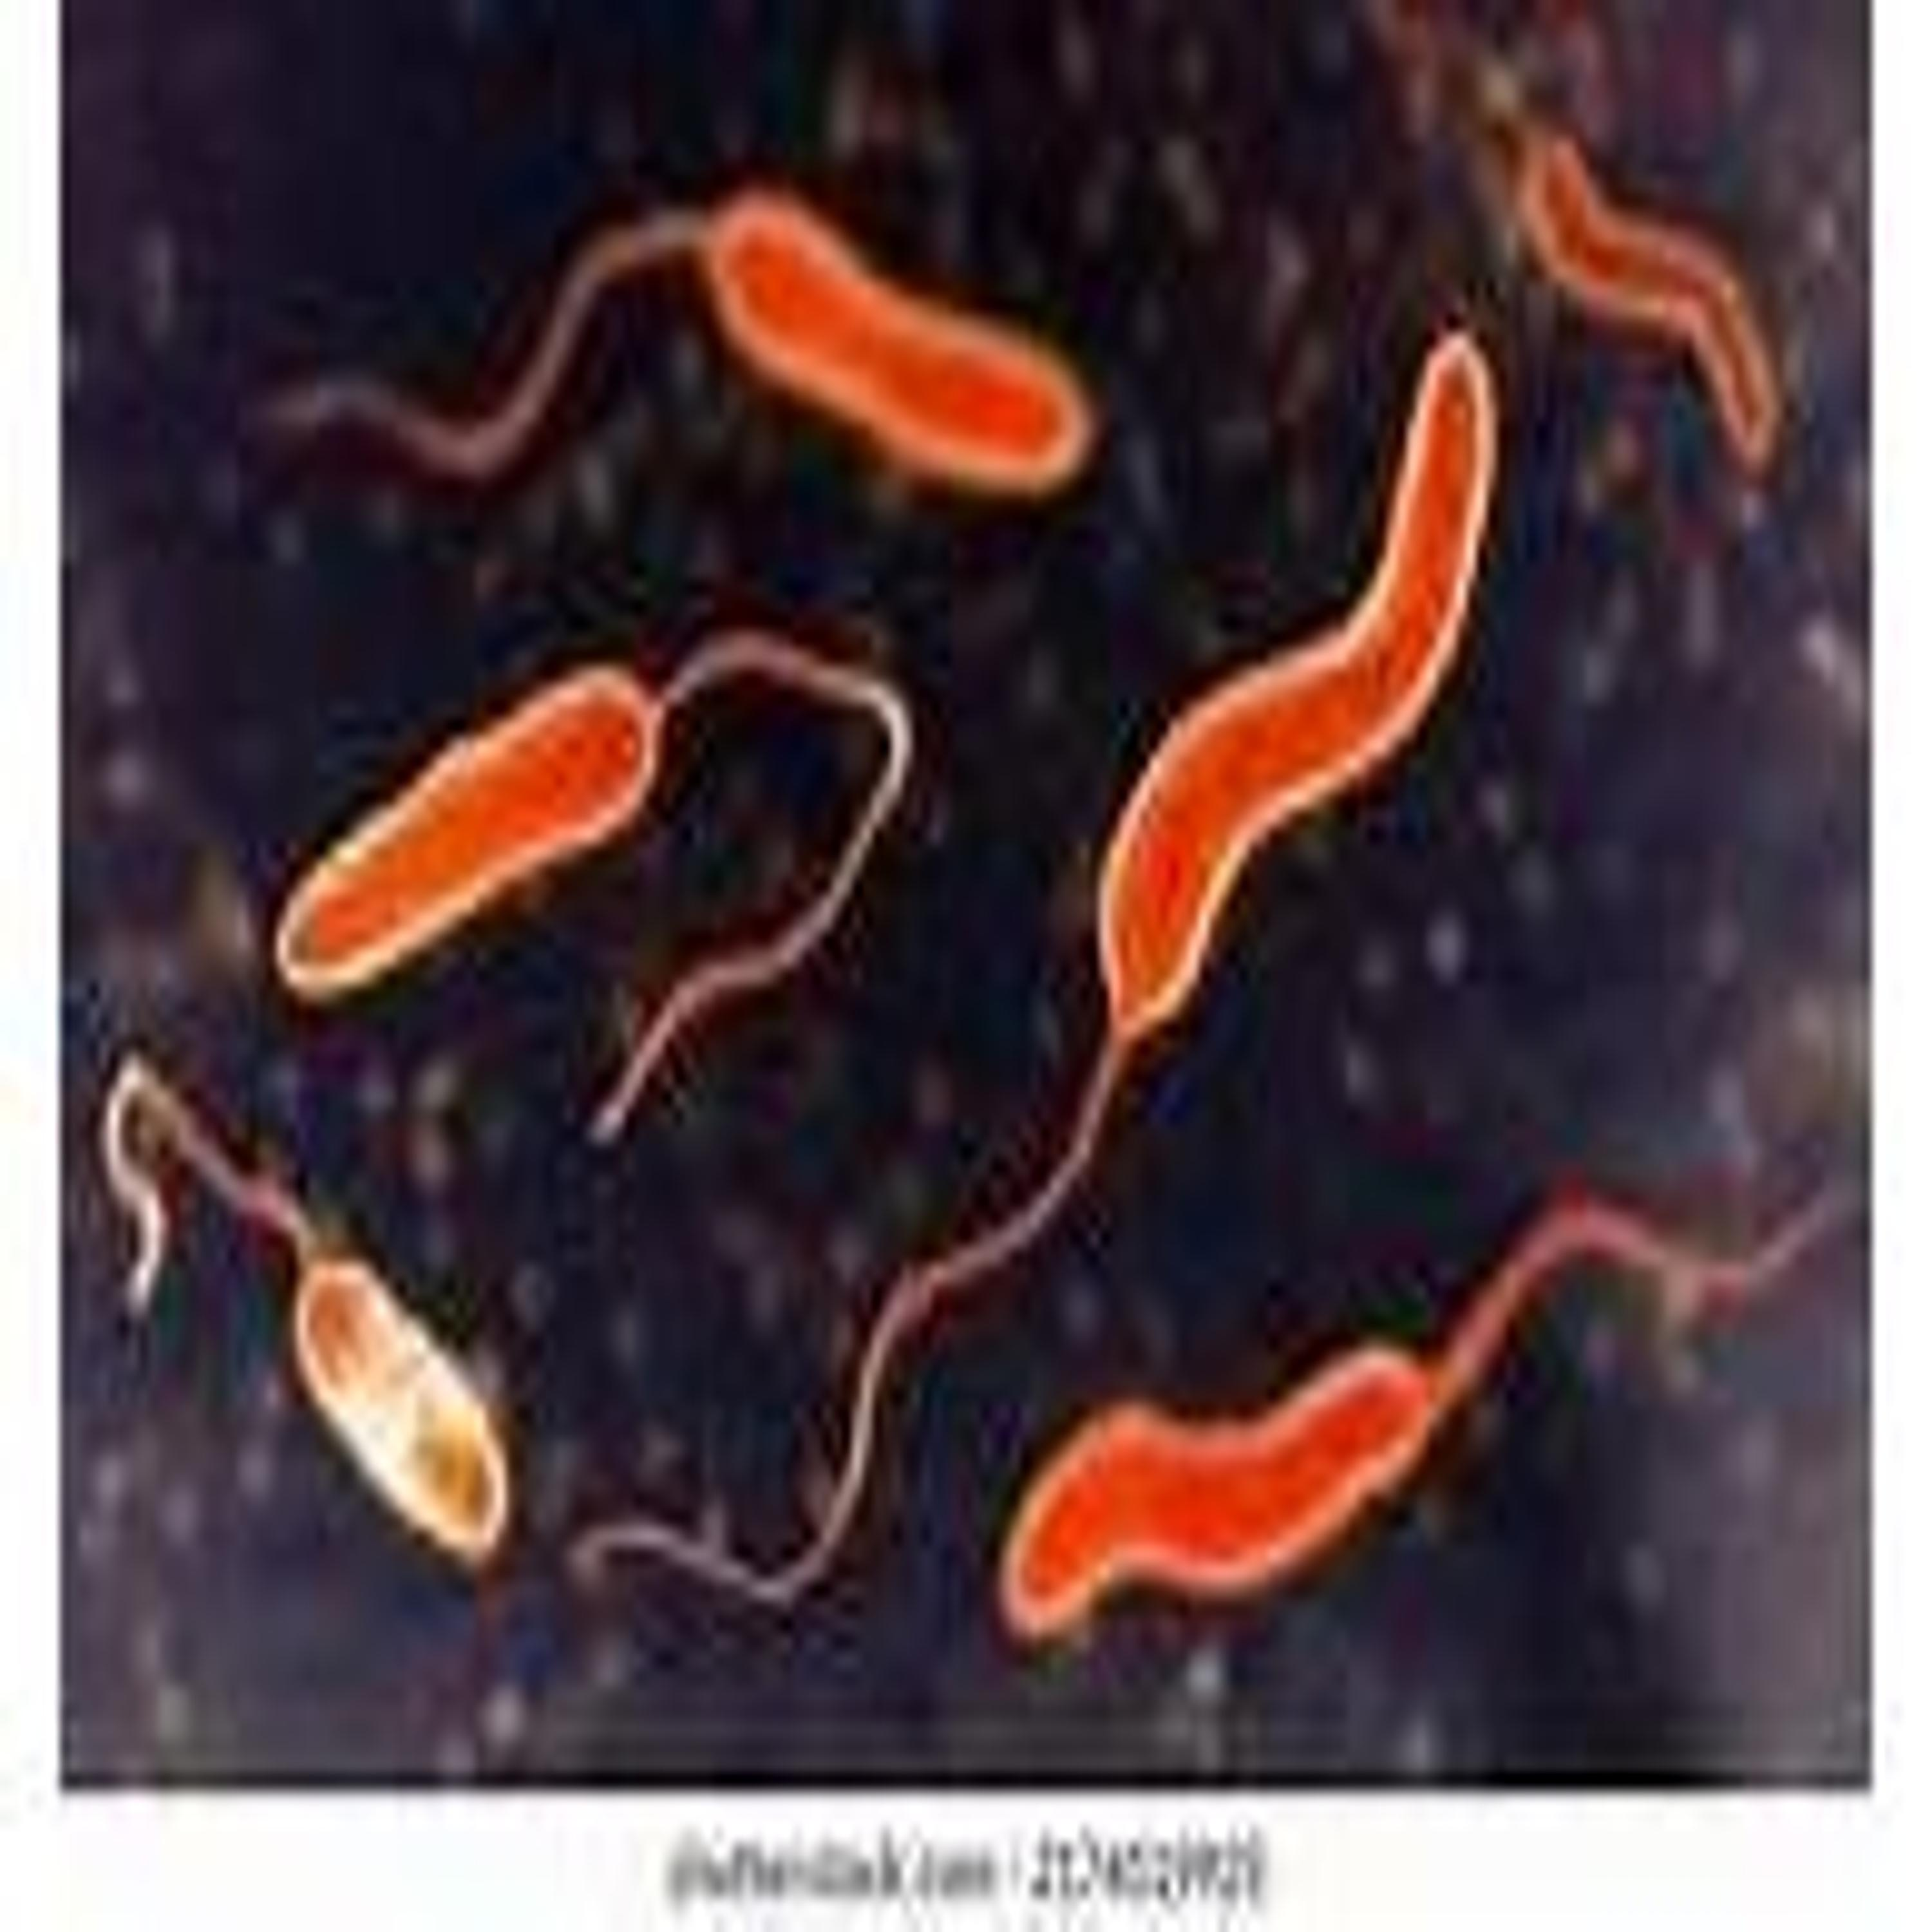Vibrio_cholerae5: (571, 324, 1500, 1603), (253, 616, 922, 1150), (262, 177, 1108, 511)
